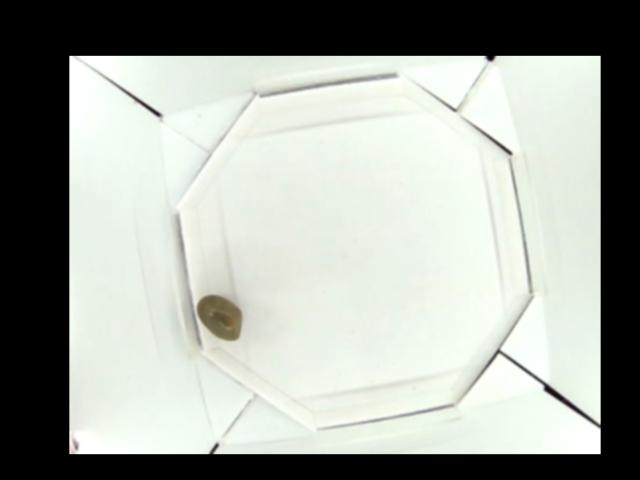Pebble: (196, 292, 246, 341)
